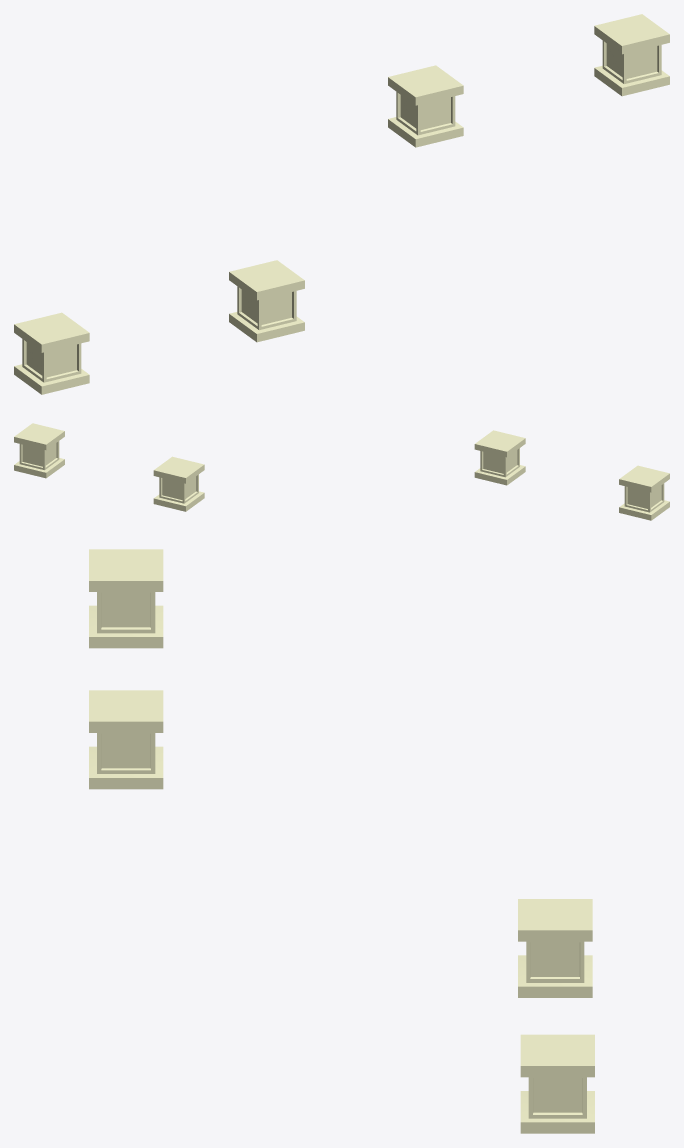
File: stand_small.fbx
3 renders of one model, top to bottom at view 1: azimuth 30°, elevation 25°; view 2: azimuth 150°, elevation 25°; view 3: azimuth 270°, elevation 25°, orthographic. The views are drawn at different scales.
Parts seen in each view (by area): view 1: stand_small_1, stand_small_2, stand_small_3, stand_small_4; view 2: stand_small_3, stand_small_4, stand_small_2, stand_small_1; view 3: stand_small_2, stand_small_3, stand_small_4, stand_small_1.
Part boxes in pixels (x1=…): stand_small_1: x1=388, y1=65, x2=463, y2=147; stand_small_2: x1=229, y1=260, x2=304, y2=342; stand_small_3: x1=594, y1=14, x2=669, y2=96; stand_small_4: x1=14, y1=312, x2=89, y2=394; stand_small_3: x1=14, y1=423, x2=64, y2=478; stand_small_4: x1=619, y1=465, x2=669, y2=520; stand_small_2: x1=474, y1=430, x2=525, y2=485; stand_small_1: x1=153, y1=456, x2=204, y2=511; stand_small_2: x1=89, y1=690, x2=163, y2=789; stand_small_3: x1=520, y1=1034, x2=594, y2=1133; stand_small_4: x1=89, y1=549, x2=163, y2=648; stand_small_1: x1=518, y1=899, x2=592, y2=997.
Size of the model in its own units: 2988 by 182 by 1237.
